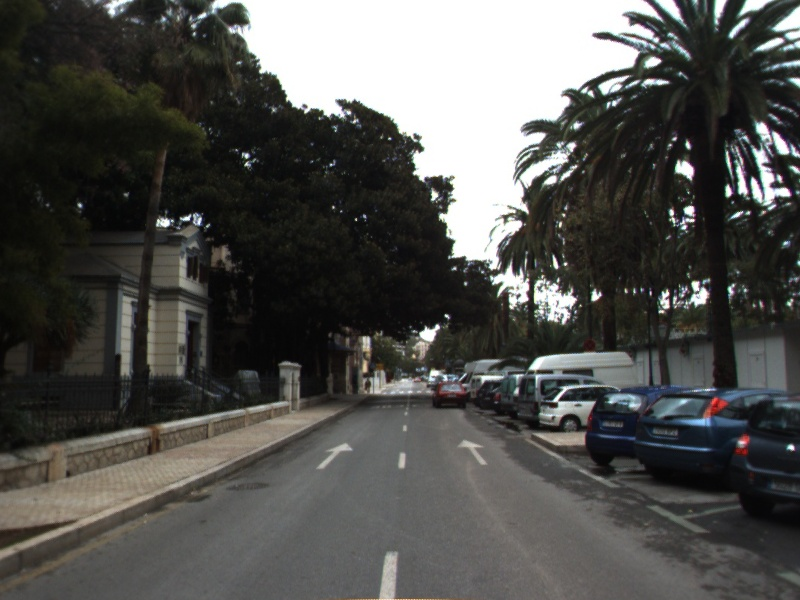STRAIGHT: (314, 441, 356, 471), (455, 437, 491, 467)
